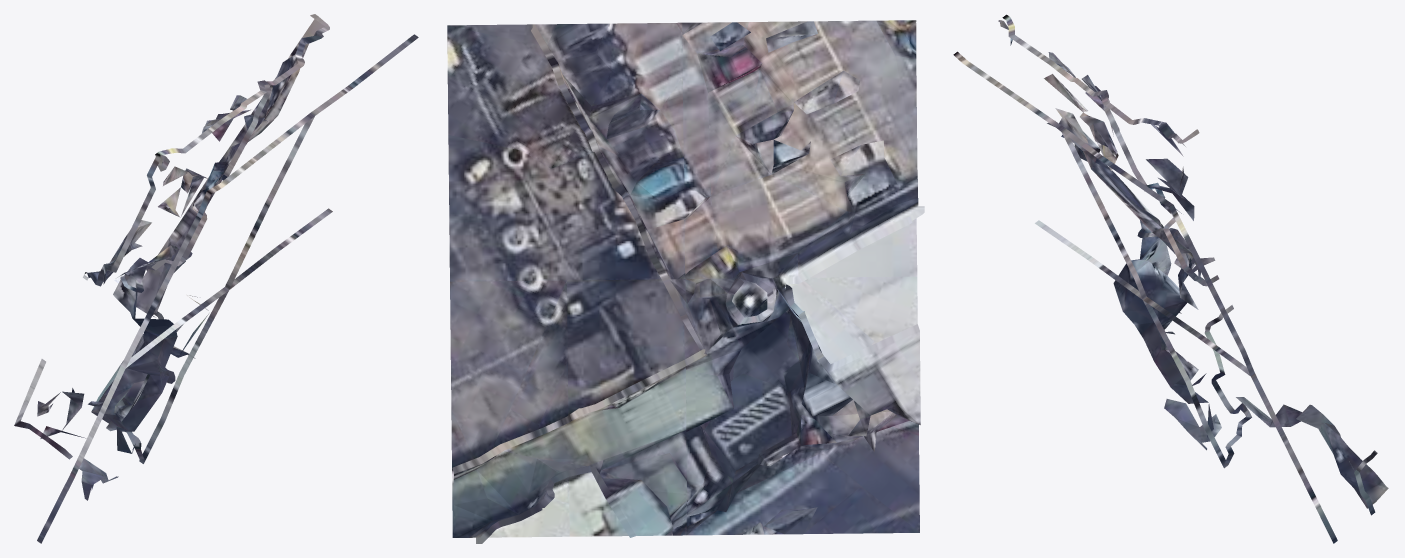
The picture shows the model from 3 angles, left to right: view 1: azimuth 30°, elevation 25°; view 2: azimuth 150°, elevation 25°; view 3: azimuth 270°, elevation 25°; orthographic projection. The views are drawn at different scales.
Bounding box in the file's own units: 39.2 × 37.62 × 36.2.
Materials: 2 (2 with a texture image).
